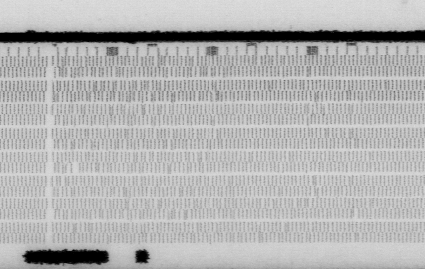Broken hole: (70, 162, 82, 174)
Oblique printing: (50, 176, 203, 245), (50, 54, 229, 103), (55, 127, 227, 151), (86, 150, 215, 177), (53, 103, 181, 127), (298, 100, 332, 125), (305, 88, 358, 101), (306, 174, 323, 198), (292, 198, 315, 209), (260, 197, 279, 208), (342, 127, 354, 141), (254, 55, 268, 67), (302, 65, 314, 78), (343, 174, 356, 186), (253, 232, 265, 245), (280, 220, 292, 232), (349, 232, 361, 244), (349, 206, 360, 219), (242, 149, 253, 162), (378, 80, 390, 91)
